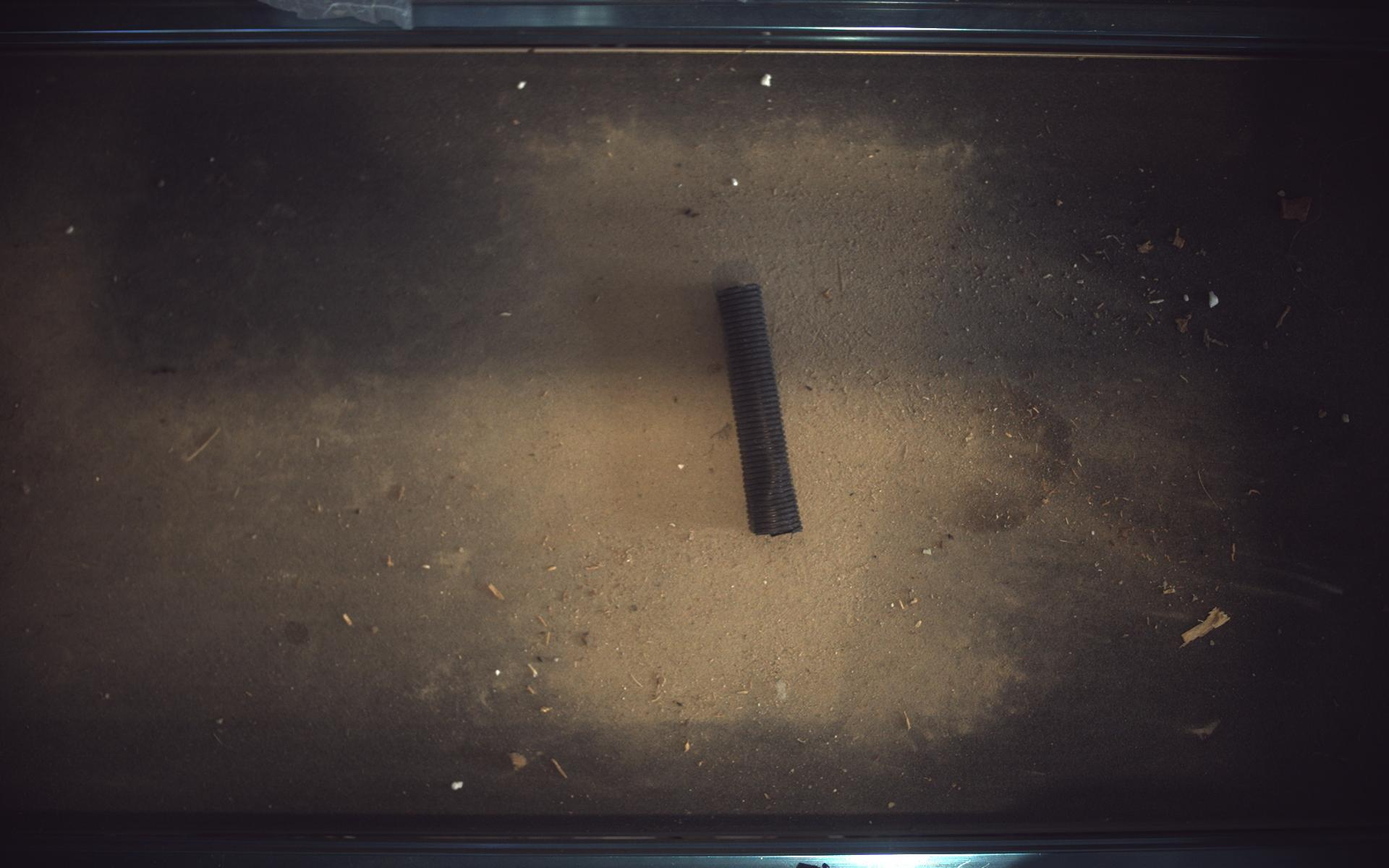pipes: (718, 283, 804, 536)
